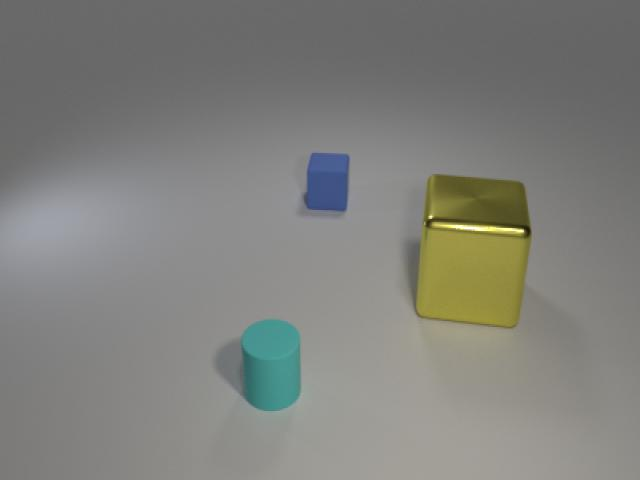cylinder: (233, 310, 310, 419)
